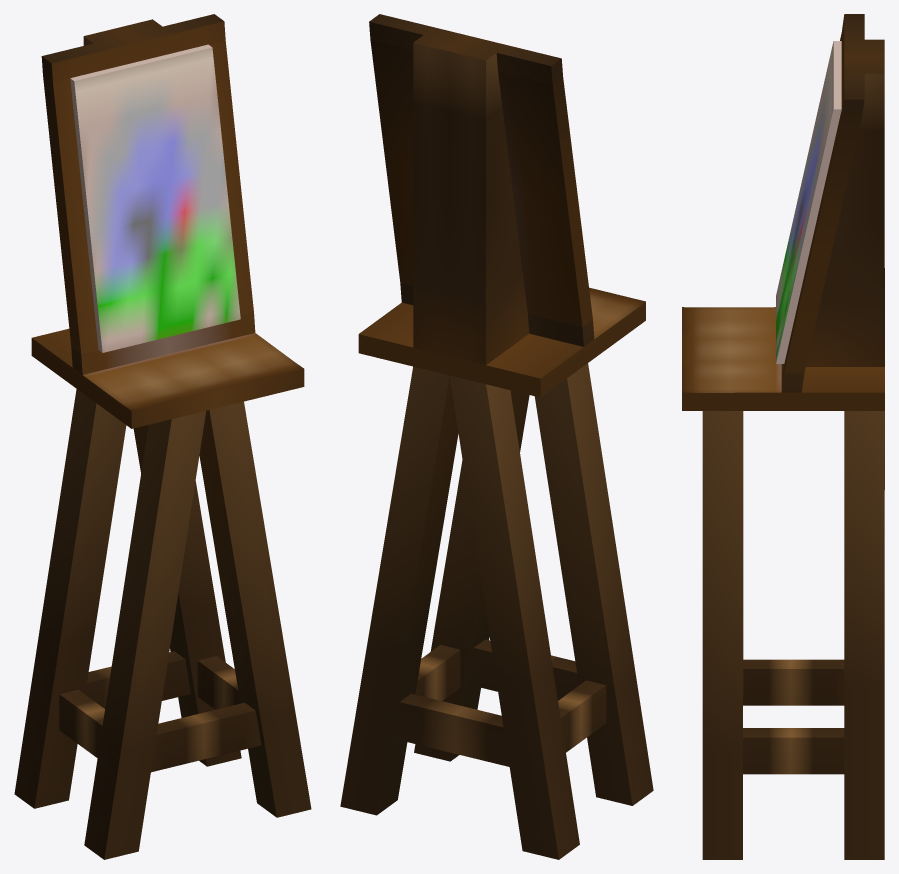
The model's file is easel_837x03.obj.
3 renders of one model, left to right at view 1: azimuth 30°, elevation 25°; view 2: azimuth 150°, elevation 25°; view 3: azimuth 270°, elevation 25°, orthographic. The views are drawn at different scales.
Visible parts, largest first — view 1: Easel_837x3; view 2: Easel_837x3; view 3: Easel_837x3.
Part boxes in pixels (x1,y1,x2,y2): Easel_837x3: (14, 14, 311, 859); Easel_837x3: (340, 14, 653, 859); Easel_837x3: (682, 14, 884, 859).
Size of the model in its own units: 1.2 by 4.1 by 1.
